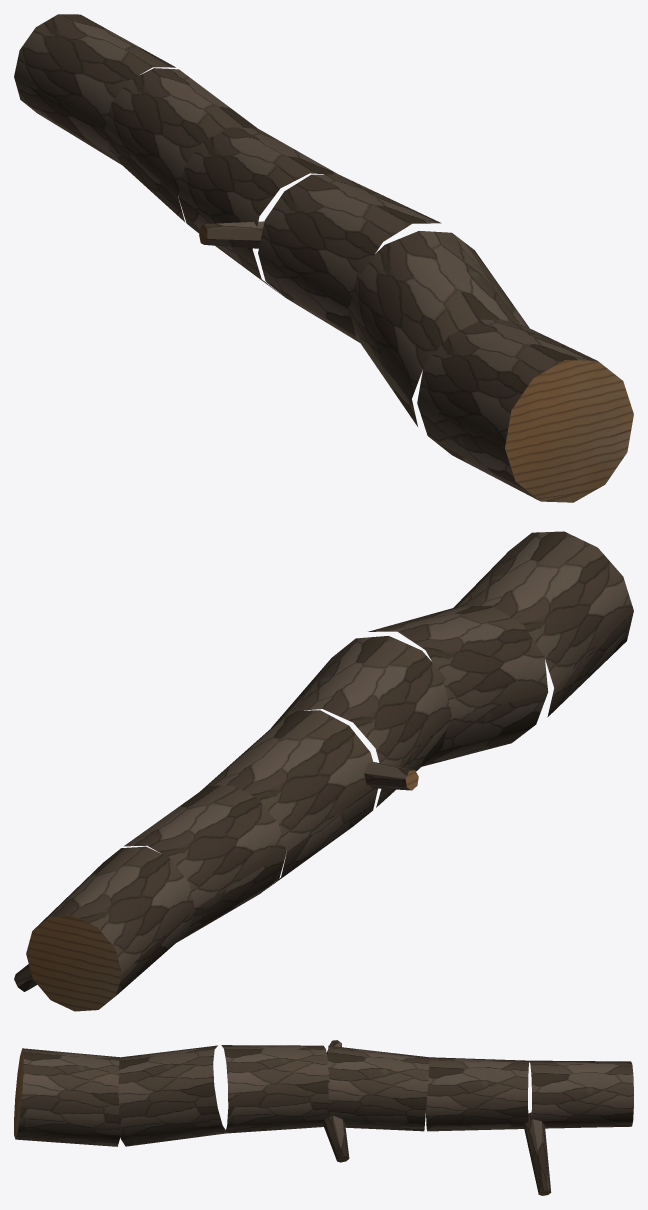
Rendered from log_2.glb.
3 renders of one model, top to bottom at view 1: azimuth 30°, elevation 25°; view 2: azimuth 150°, elevation 25°; view 3: azimuth 270°, elevation 25°, orthographic. The views are drawn at different scales.
Visible parts, largest first — view 1: X_log2; view 2: X_log2; view 3: X_log2.
Part boxes in pixels (<box>): X_log2: <box>14,14,633,502</box>; X_log2: <box>14,531,633,1011</box>; X_log2: <box>14,1040,633,1195</box>.
Size of the model in its own units: 0.8781 by 0.6924 by 3.34.
Materials: 2 (2 with a texture image).
